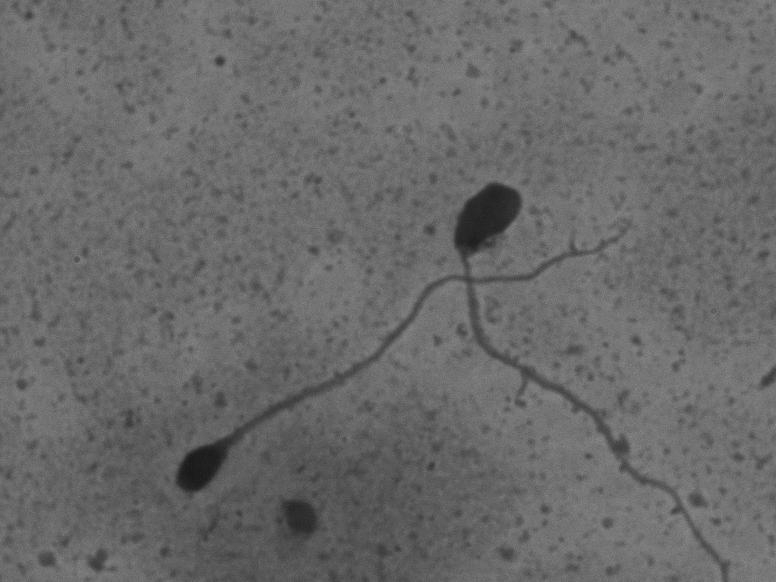Abnormal: (160, 210, 647, 504), (437, 166, 720, 566)
